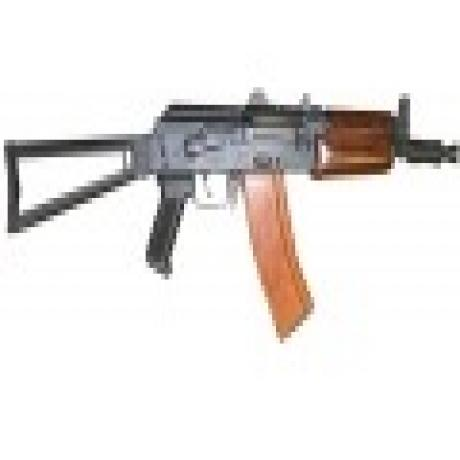weapon: (5, 92, 458, 343)
